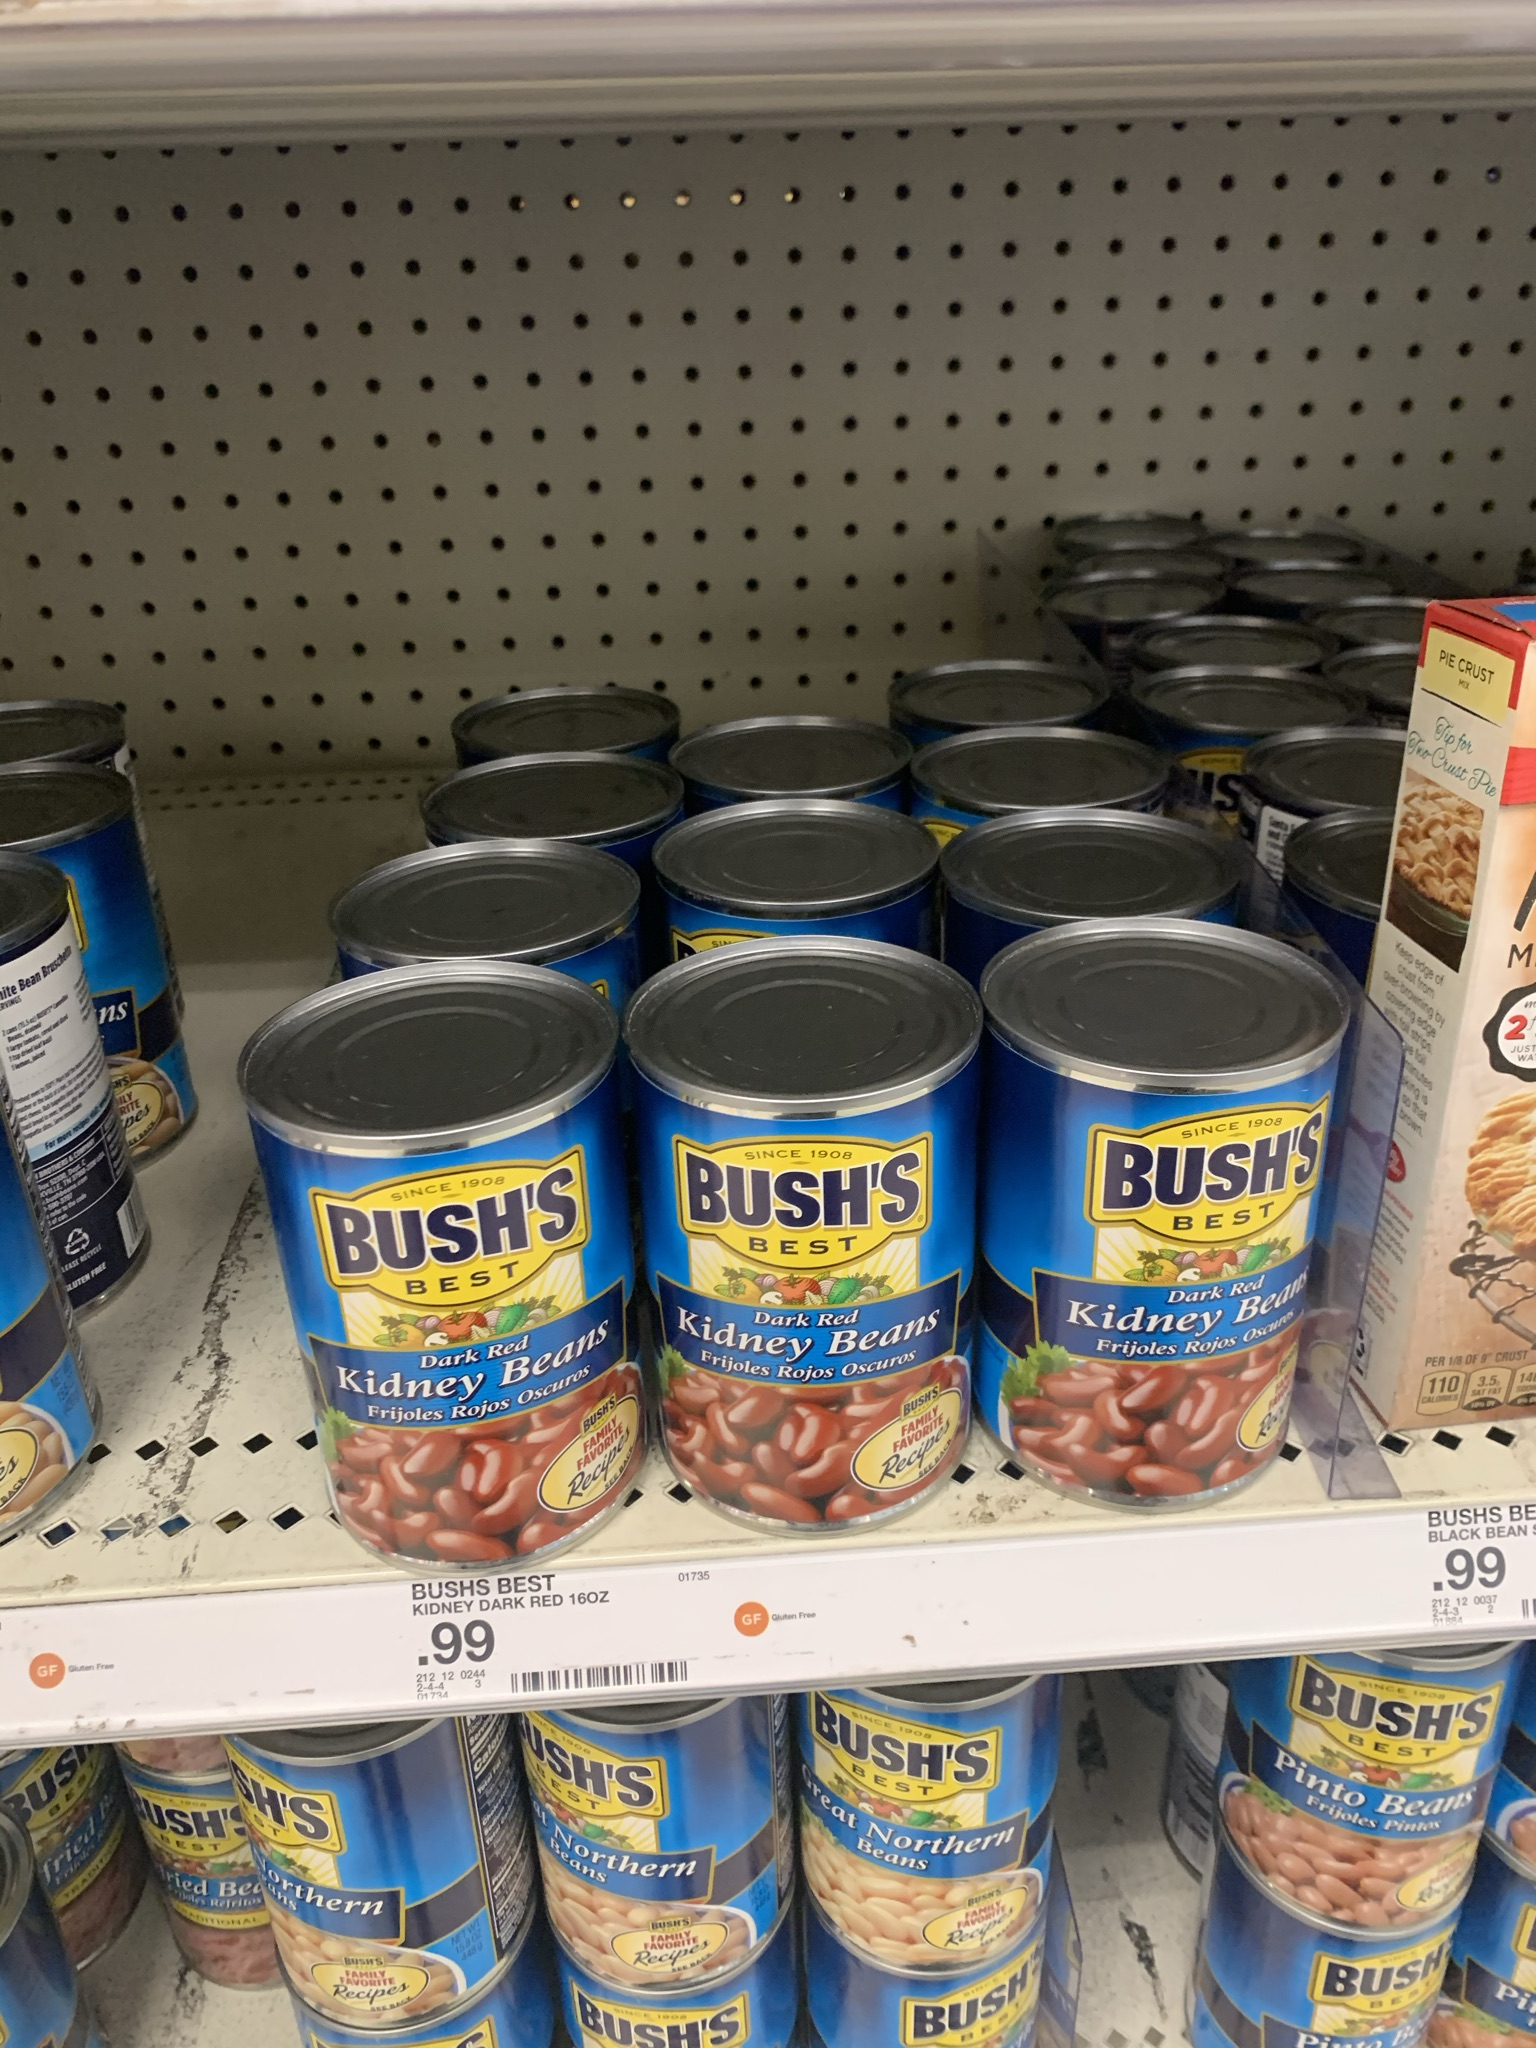can: (995, 980, 1320, 1455), (649, 992, 965, 1464), (313, 1022, 628, 1480), (1233, 1663, 1480, 1909), (274, 1734, 473, 2009), (816, 1679, 1054, 1904), (545, 1716, 770, 1954)
